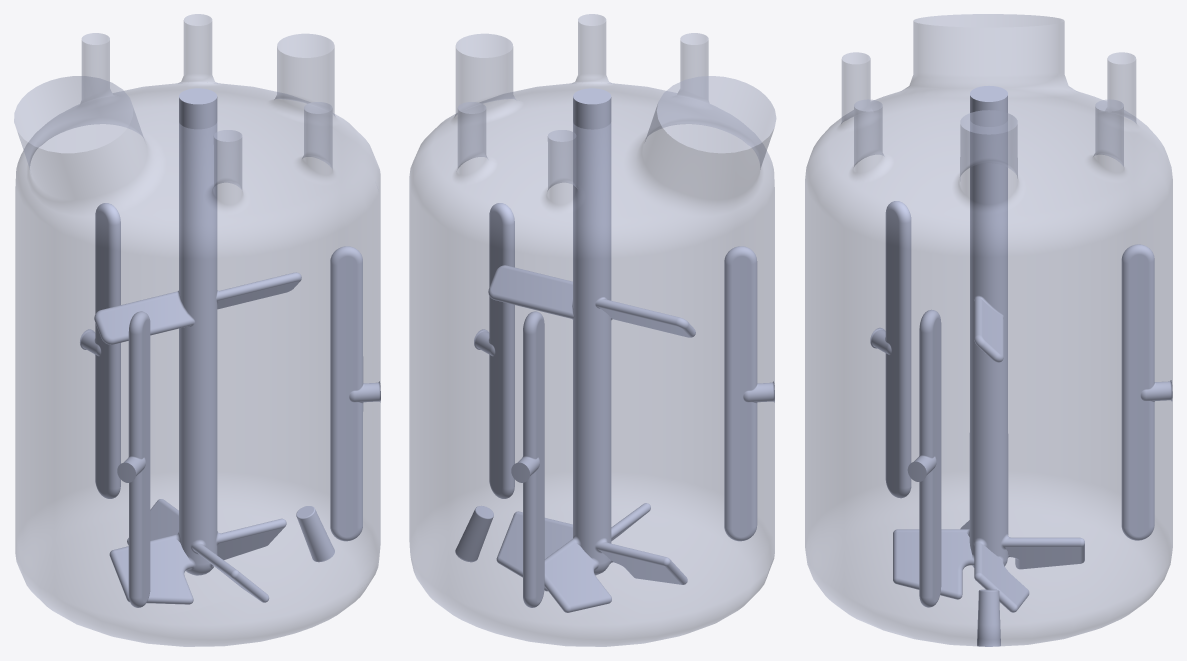
The picture shows the model from 3 angles, left to right: view 1: azimuth 30°, elevation 25°; view 2: azimuth 150°, elevation 25°; view 3: azimuth 270°, elevation 25°; orthographic projection.
Visible parts, largest first — view 1: 802-Tank, 802-Imp, 802-Baffles.sldasm-Part-002, 802-Baffles.sldasm-Part-001, 802-Baffles.sldasm-Part-1, 802-Tr; view 2: 802-Tank, 802-Imp, 802-Baffles.sldasm-Part-1, 802-Baffles.sldasm-Part-002, 802-Baffles.sldasm-Part-001, 802-Tr; view 3: 802-Tank, 802-Imp, 802-Baffles.sldasm-Part-001, 802-Baffles.sldasm-Part-1, 802-Baffles.sldasm-Part-002, 802-Tr.
Boxes of the visible parts, x1,y1,x2,y2 form: 802-Tank: (14,14,380,646); 802-Imp: (94,88,301,604); 802-Baffles.sldasm-Part-002: (330,246,380,541); 802-Baffles.sldasm-Part-001: (80,203,120,498); 802-Baffles.sldasm-Part-1: (117,311,150,607); 802-Tr: (296,506,334,561); 802-Tank: (409,14,776,646); 802-Imp: (488,88,695,612); 802-Baffles.sldasm-Part-1: (724,246,774,541); 802-Baffles.sldasm-Part-002: (474,203,514,498); 802-Baffles.sldasm-Part-001: (511,311,544,607); 802-Tr: (455,506,493,562); 802-Tank: (805,14,1172,646); 802-Imp: (893,86,1084,612); 802-Baffles.sldasm-Part-001: (1121,244,1172,540); 802-Baffles.sldasm-Part-1: (870,201,911,498); 802-Baffles.sldasm-Part-002: (907,309,941,607); 802-Tr: (977,589,1000,646).
Size of the model in its own units: 1.01 by 1.58 by 0.972.
